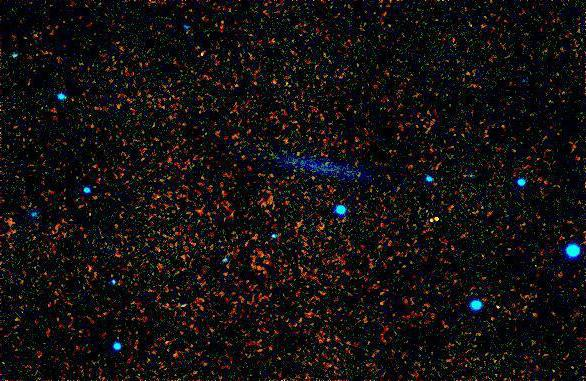star: (420, 199, 450, 229)
